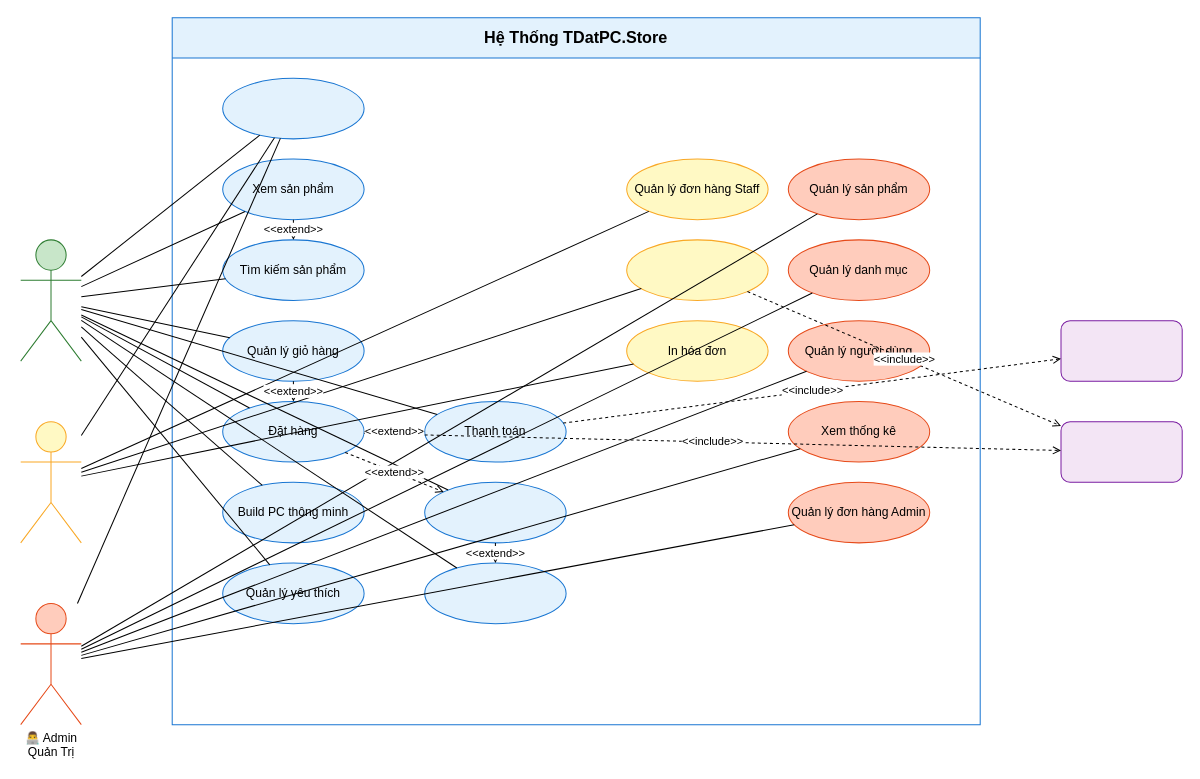
Some shapes in this 1200 by 779 pixel diagram are drawn without their labels. The centre of each missing label's shape, as x and y in pixels:
"Cập nhật trạng thái đơn" belongs at pixel 697 269.
"Email Service" belongs at pixel 1121 451.
"VNPay Gateway" belongs at pixel 1121 350.
"Xem đơn hàng" belongs at pixel 495 512.
"Xác nhận nhận hàng" belongs at pixel 495 593.
"Đăng ký/Đăng nhập" belongs at pixel 293 108.
"👤 User Khách Hàng" belongs at pixel 50 300.
"👨‍💼 Staff Nhân Viên" belongs at pixel 50 482.
